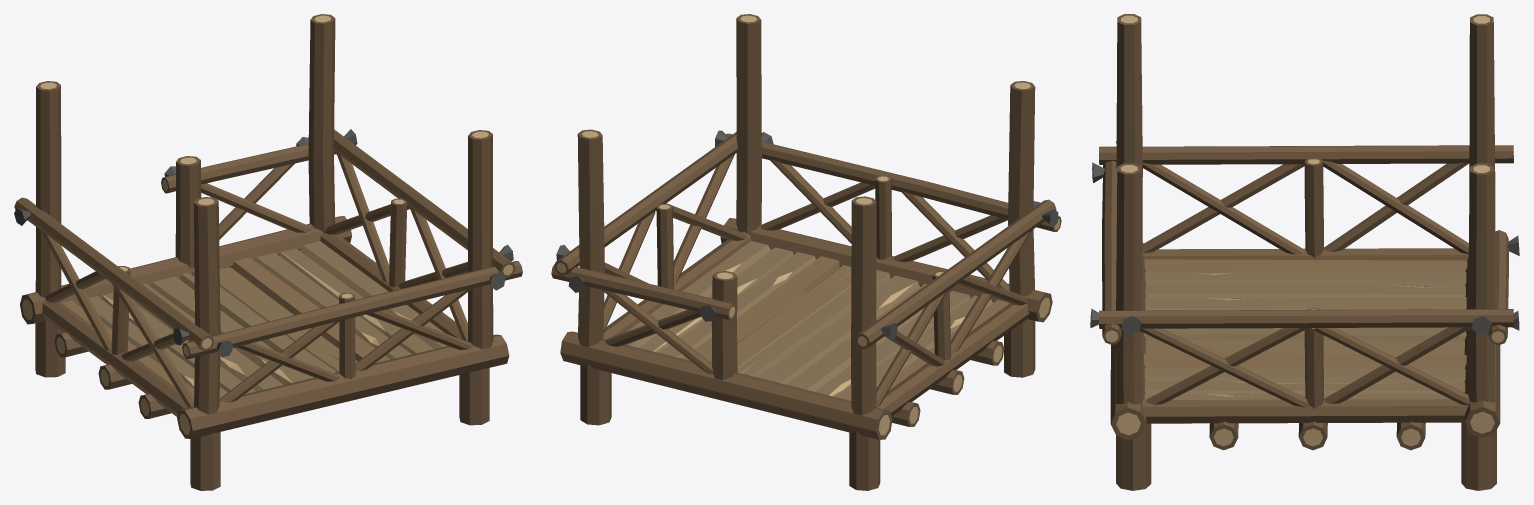
Rendered from rpgpp_ag_stockpile_02_platform_02a.fbx.
3 views of the same model, side by side, from view 1: azimuth 30°, elevation 25°; view 2: azimuth 150°, elevation 25°; view 3: azimuth 270°, elevation 25° (orthographic). The views are drawn at different scales.
Visible parts, largest first — view 1: rpgpp_ag_stockpile_02_platform_02a; view 2: rpgpp_ag_stockpile_02_platform_02a; view 3: rpgpp_ag_stockpile_02_platform_02a.
Part boxes in pixels (bbox=[...]): rpgpp_ag_stockpile_02_platform_02a: bbox=[14, 14, 522, 490]; rpgpp_ag_stockpile_02_platform_02a: bbox=[551, 14, 1061, 490]; rpgpp_ag_stockpile_02_platform_02a: bbox=[1090, 14, 1519, 490].
Size of the model in its own units: 4.84 by 3.92 by 4.81.
